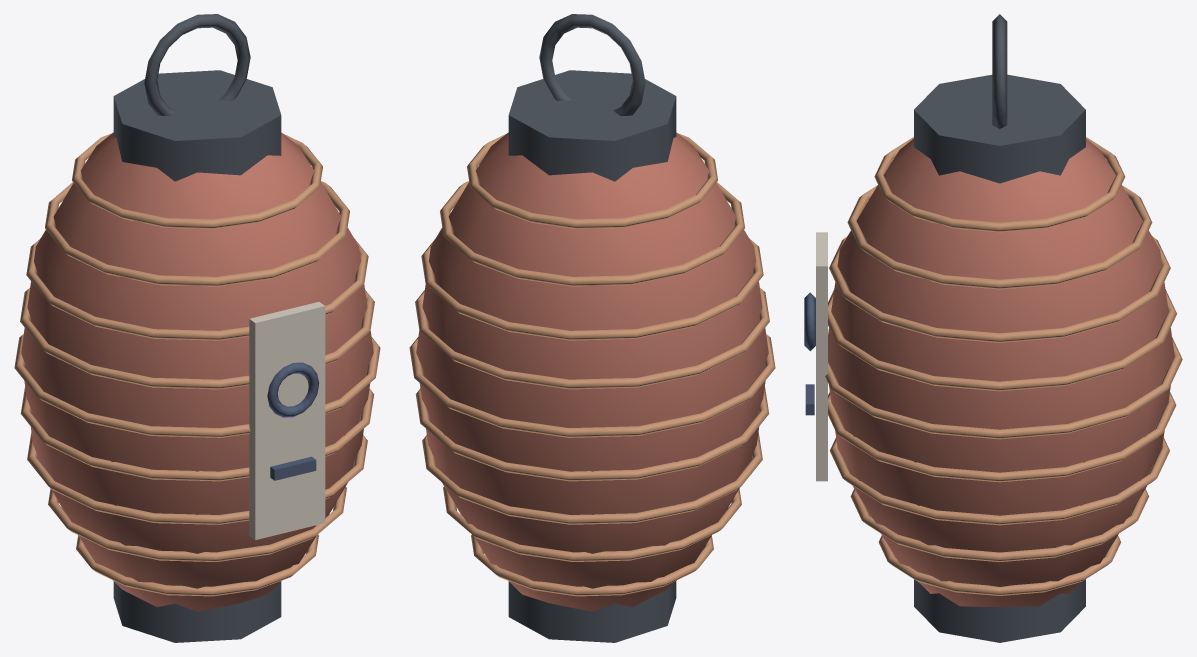
File: komachi-chochin.glb
3 views of the same model, side by side, from view 1: azimuth 30°, elevation 25°; view 2: azimuth 150°, elevation 25°; view 3: azimuth 270°, elevation 25° (orthographic).
Visible parts, largest first — view 1: Paper_Lantern; view 2: Paper_Lantern; view 3: Paper_Lantern.
Boxes of the visible parts, x1,y1,x2,y2 form: Paper_Lantern: (14,14,380,642); Paper_Lantern: (409,14,775,642); Paper_Lantern: (804,14,1182,642).
Size of the model in its own units: 0.1234 by 0.2185 by 0.1277.
